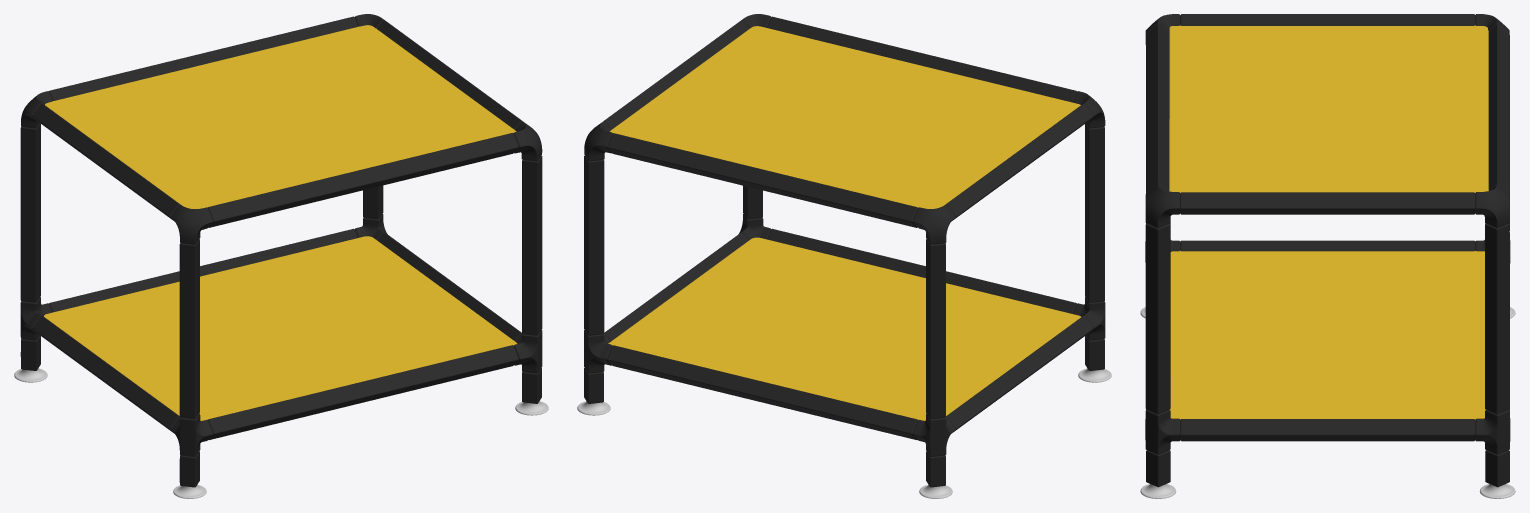
3 views of the same model, side by side, from view 1: azimuth 30°, elevation 25°; view 2: azimuth 150°, elevation 25°; view 3: azimuth 270°, elevation 25° (orthographic). The views are drawn at different scales.
Parts seen in each view (by area): view 1: 420x329x229; view 2: 420x329x229; view 3: 420x329x229.
Part boxes in pixels (bbox=[...]): 420x329x229: bbox=[14, 14, 548, 498]; 420x329x229: bbox=[577, 14, 1111, 498]; 420x329x229: bbox=[1140, 14, 1515, 498].
Bounding box in the file's own units: 0.5099 × 0.3683 × 0.4182.
